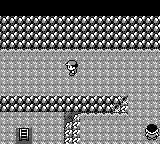captura: (0, 49, 159, 143), (0, 112, 63, 144)
main: (65, 61, 78, 76)
no-caminable: (0, 16, 159, 50), (0, 0, 159, 16), (0, 97, 125, 111), (64, 114, 80, 143)
npc: (144, 125, 159, 141)
puerta: (18, 128, 30, 141)
